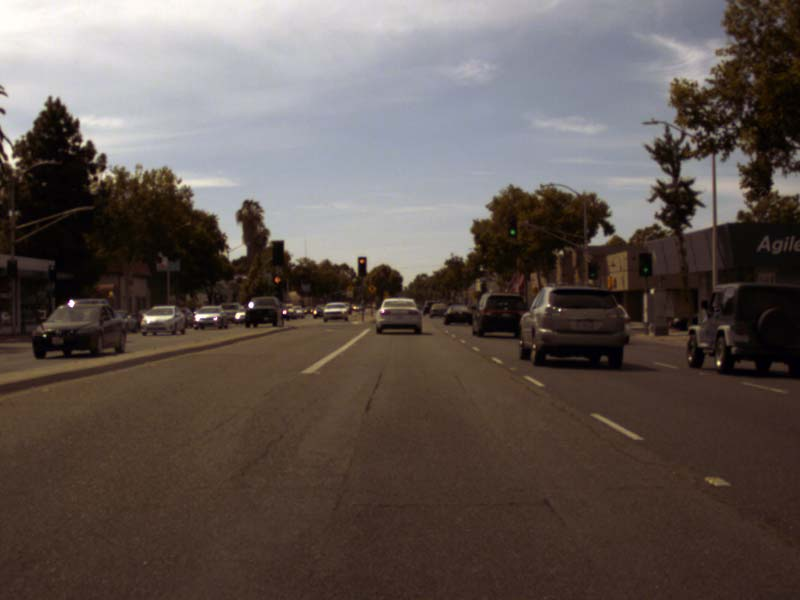Green: (638, 252, 651, 276), (507, 214, 517, 237), (587, 262, 597, 279)
Red: (358, 257, 365, 276), (273, 275, 281, 284)
